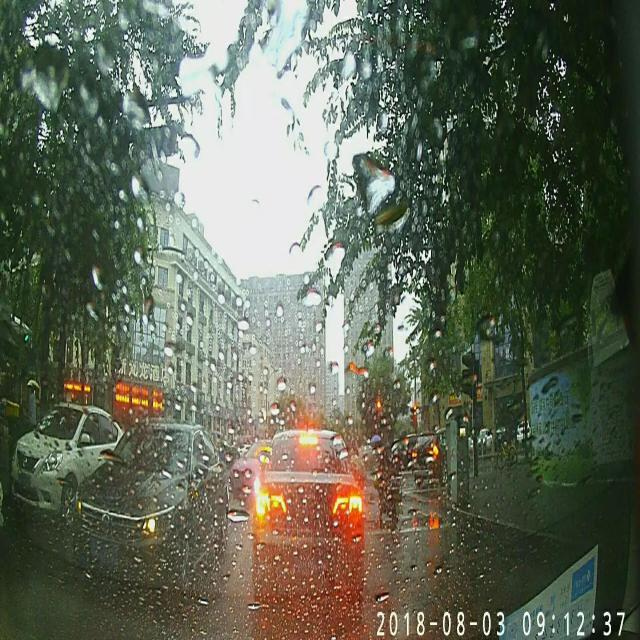car: (80, 424, 228, 584), (254, 430, 364, 598), (9, 401, 132, 514), (230, 436, 284, 502), (413, 432, 446, 484)
